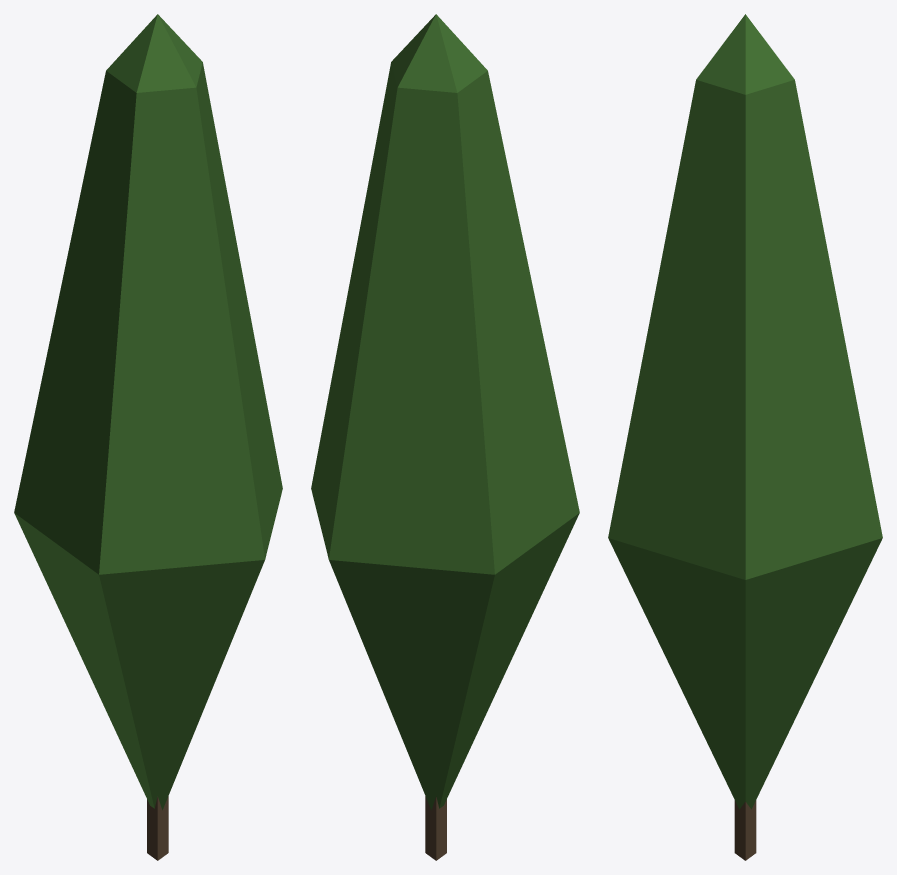
The model's file is columnar.L0.2a9d4292.glb.
The picture shows the model from 3 angles, left to right: view 1: azimuth 30°, elevation 25°; view 2: azimuth 150°, elevation 25°; view 3: azimuth 270°, elevation 25°; orthographic projection.
Visible parts, largest first — view 1: A-TREES-COLUMNAR; view 2: A-TREES-COLUMNAR; view 3: A-TREES-COLUMNAR.
Boxes of the visible parts, x1=… form: A-TREES-COLUMNAR: x1=14, y1=14, x2=282, y2=860; A-TREES-COLUMNAR: x1=311, y1=14, x2=579, y2=860; A-TREES-COLUMNAR: x1=608, y1=14, x2=882, y2=860.
Size of the model in its own units: 2.53 by 9 by 2.66.
